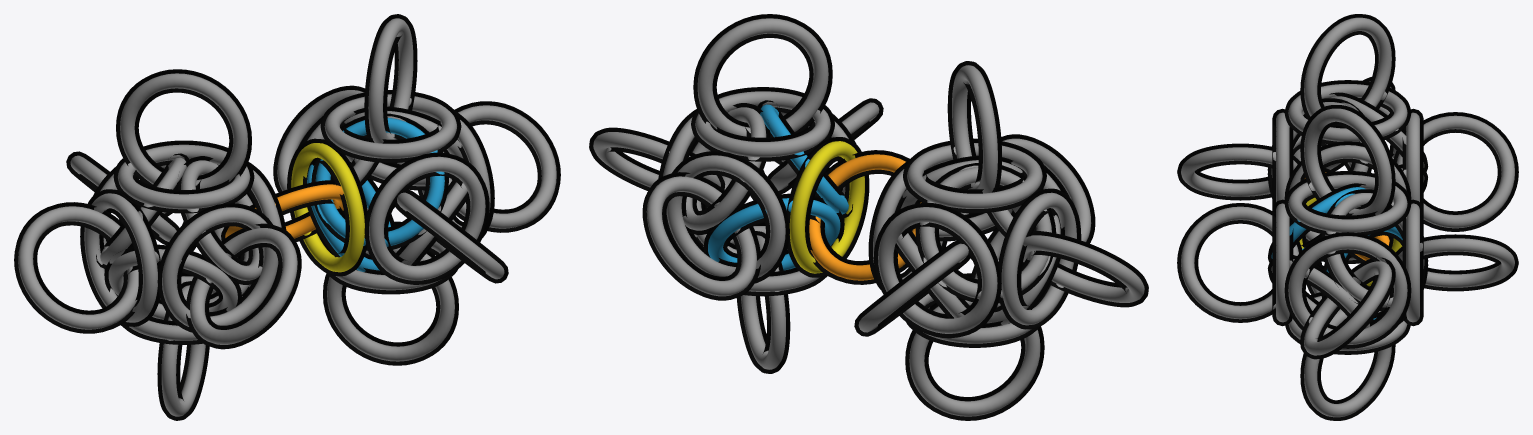
File: tetraorb_line_step_07.glb
3 views of the same model, side by side, from view 1: azimuth 30°, elevation 25°; view 2: azimuth 150°, elevation 25°; view 3: azimuth 270°, elevation 25° (orthographic). The views are drawn at different scales.
Visible parts, largest first — view 1: Torus.010, Torus.517, Torus.520, Torus.515, Torus.509, Torus.007, Torus.006, Torus.514, Torus.002, Torus.011, Torus.511, Torus.005 (+16 smaller); view 2: Torus.510, Torus.005, Torus.003, Torus.009, Torus.514, Torus.007, Torus.518, Torus.511, Torus.011, Torus.520, Torus.517, Torus.519 (+16 smaller); view 3: Torus.008, Torus.004, Torus.516, Torus.005, Torus.517, Torus.002, Torus.011, Torus.515, Torus.003, Torus.006, Torus.511, Torus.009 (+11 smaller).
Boxes of the visible parts, x1,y1,x2,y2 form: Torus.010: [364, 152, 489, 284]; Torus.517: [116, 69, 251, 188]; Torus.520: [14, 202, 138, 333]; Torus.515: [186, 223, 301, 349]; Torus.509: [157, 203, 278, 332]; Torus.007: [287, 138, 368, 276]; Torus.006: [323, 247, 458, 365]; Torus.514: [80, 189, 162, 326]; Torus.002: [443, 101, 560, 232]; Torus.011: [320, 90, 461, 162]; Torus.511: [113, 140, 254, 213]; Torus.005: [364, 14, 417, 143]; Torus.510: [873, 202, 1001, 338]; Torus.005: [693, 14, 832, 136]; Torus.003: [642, 172, 760, 300]; Torus.009: [666, 151, 789, 283]; Torus.514: [997, 188, 1081, 329]; Torus.007: [785, 137, 869, 277]; Torus.518: [905, 300, 1044, 420]; Torus.511: [903, 138, 1046, 213]; Torus.011: [691, 87, 834, 161]; Torus.520: [1022, 231, 1148, 307]; Torus.517: [947, 61, 1001, 193]; Torus.519: [809, 150, 921, 284]; Torus.008: [1284, 232, 1411, 348]; Torus.004: [1177, 203, 1302, 322]; Torus.516: [1393, 112, 1518, 231]; Torus.005: [1300, 105, 1395, 215]; Torus.517: [1300, 14, 1395, 119]; Torus.002: [1300, 257, 1395, 359]; Torus.011: [1284, 171, 1411, 236]; Torus.515: [1177, 143, 1300, 200]; Torus.003: [1396, 234, 1518, 291]; Torus.006: [1300, 309, 1395, 420]; Torus.511: [1284, 80, 1411, 145]; Torus.009: [1402, 199, 1423, 326].
Bounding box in the file's own units: 14.76 × 9.06 × 9.06.
